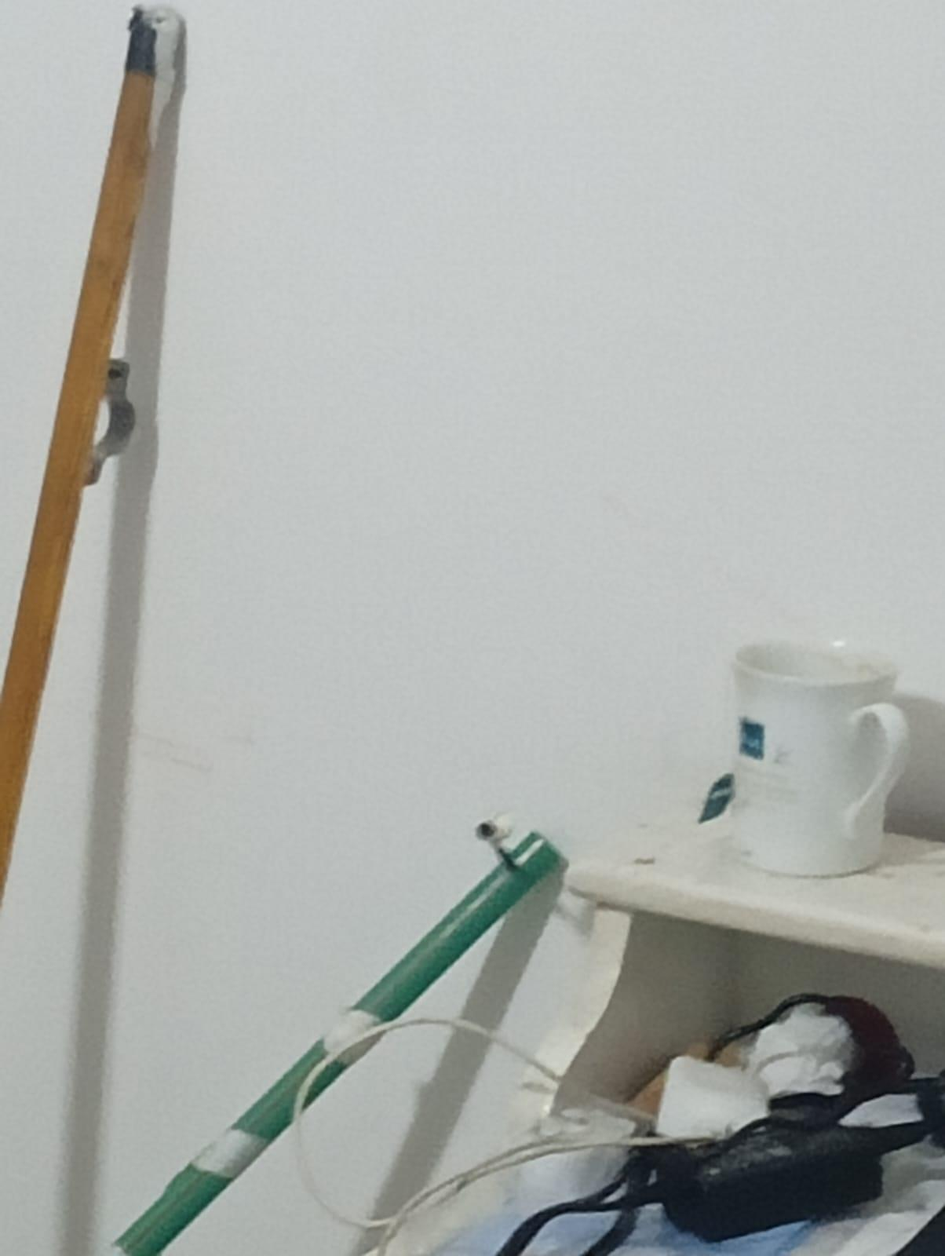cup: (733, 641, 907, 875)
